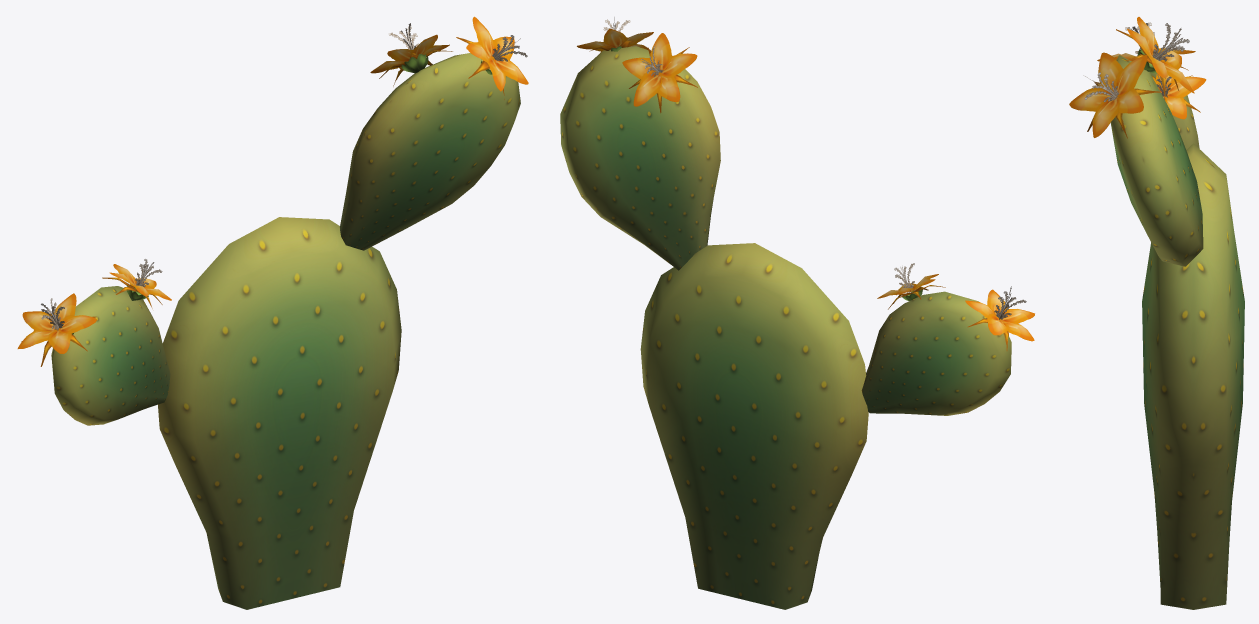
The model's file is Ctn_flatCactus_01_v02_flowers.FBX.
3 views of the same model, side by side, from view 1: azimuth 30°, elevation 25°; view 2: azimuth 150°, elevation 25°; view 3: azimuth 270°, elevation 25° (orthographic). The views are drawn at different scales.
Parts seen in each view (by area): view 1: Ctn_flatCactus_01_v02_flowers; view 2: Ctn_flatCactus_01_v02_flowers; view 3: Ctn_flatCactus_01_v02_flowers.
Boxes of the visible parts, x1,y1,x2,y2 form: Ctn_flatCactus_01_v02_flowers: [17, 16, 528, 609]; Ctn_flatCactus_01_v02_flowers: [560, 17, 1034, 609]; Ctn_flatCactus_01_v02_flowers: [1069, 17, 1244, 609].
Size of the model in its own units: 82.38 by 84.63 by 21.95.
